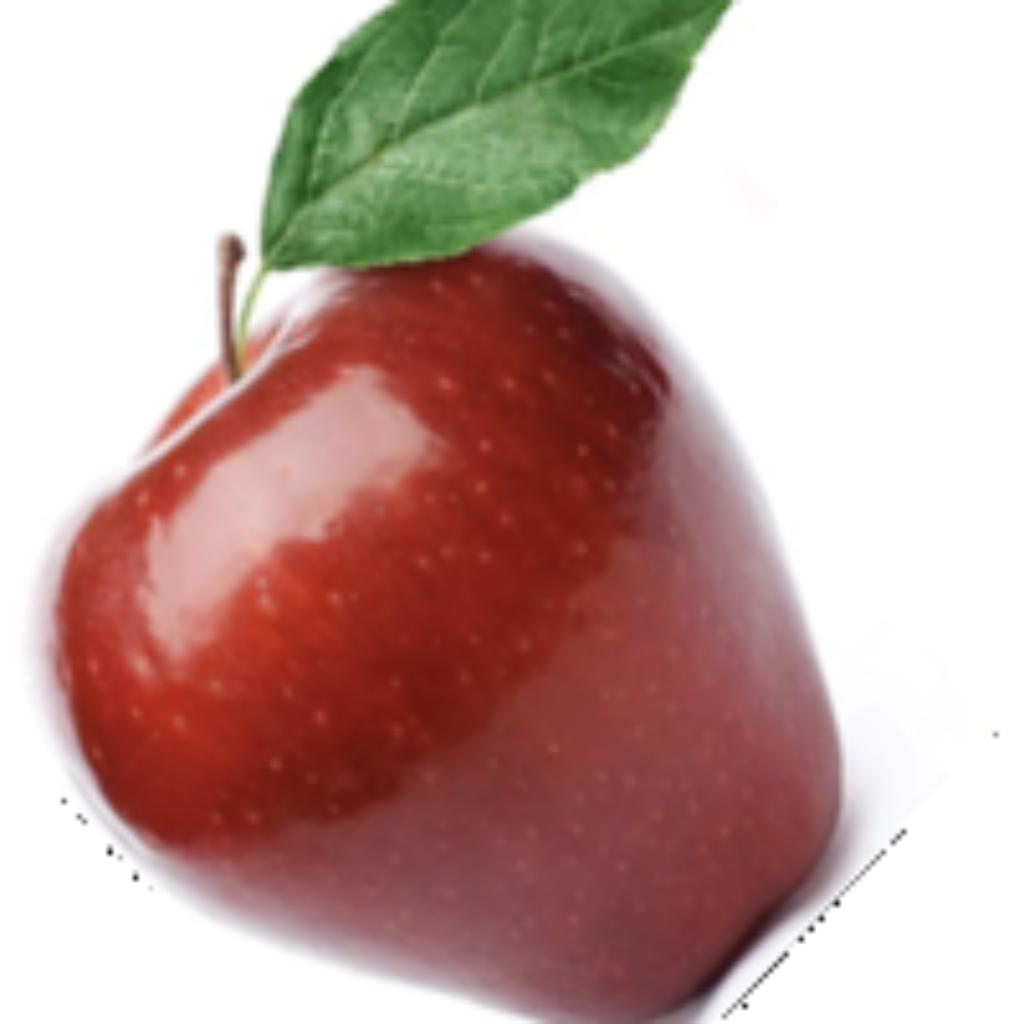apple: (15, 0, 906, 1019)
